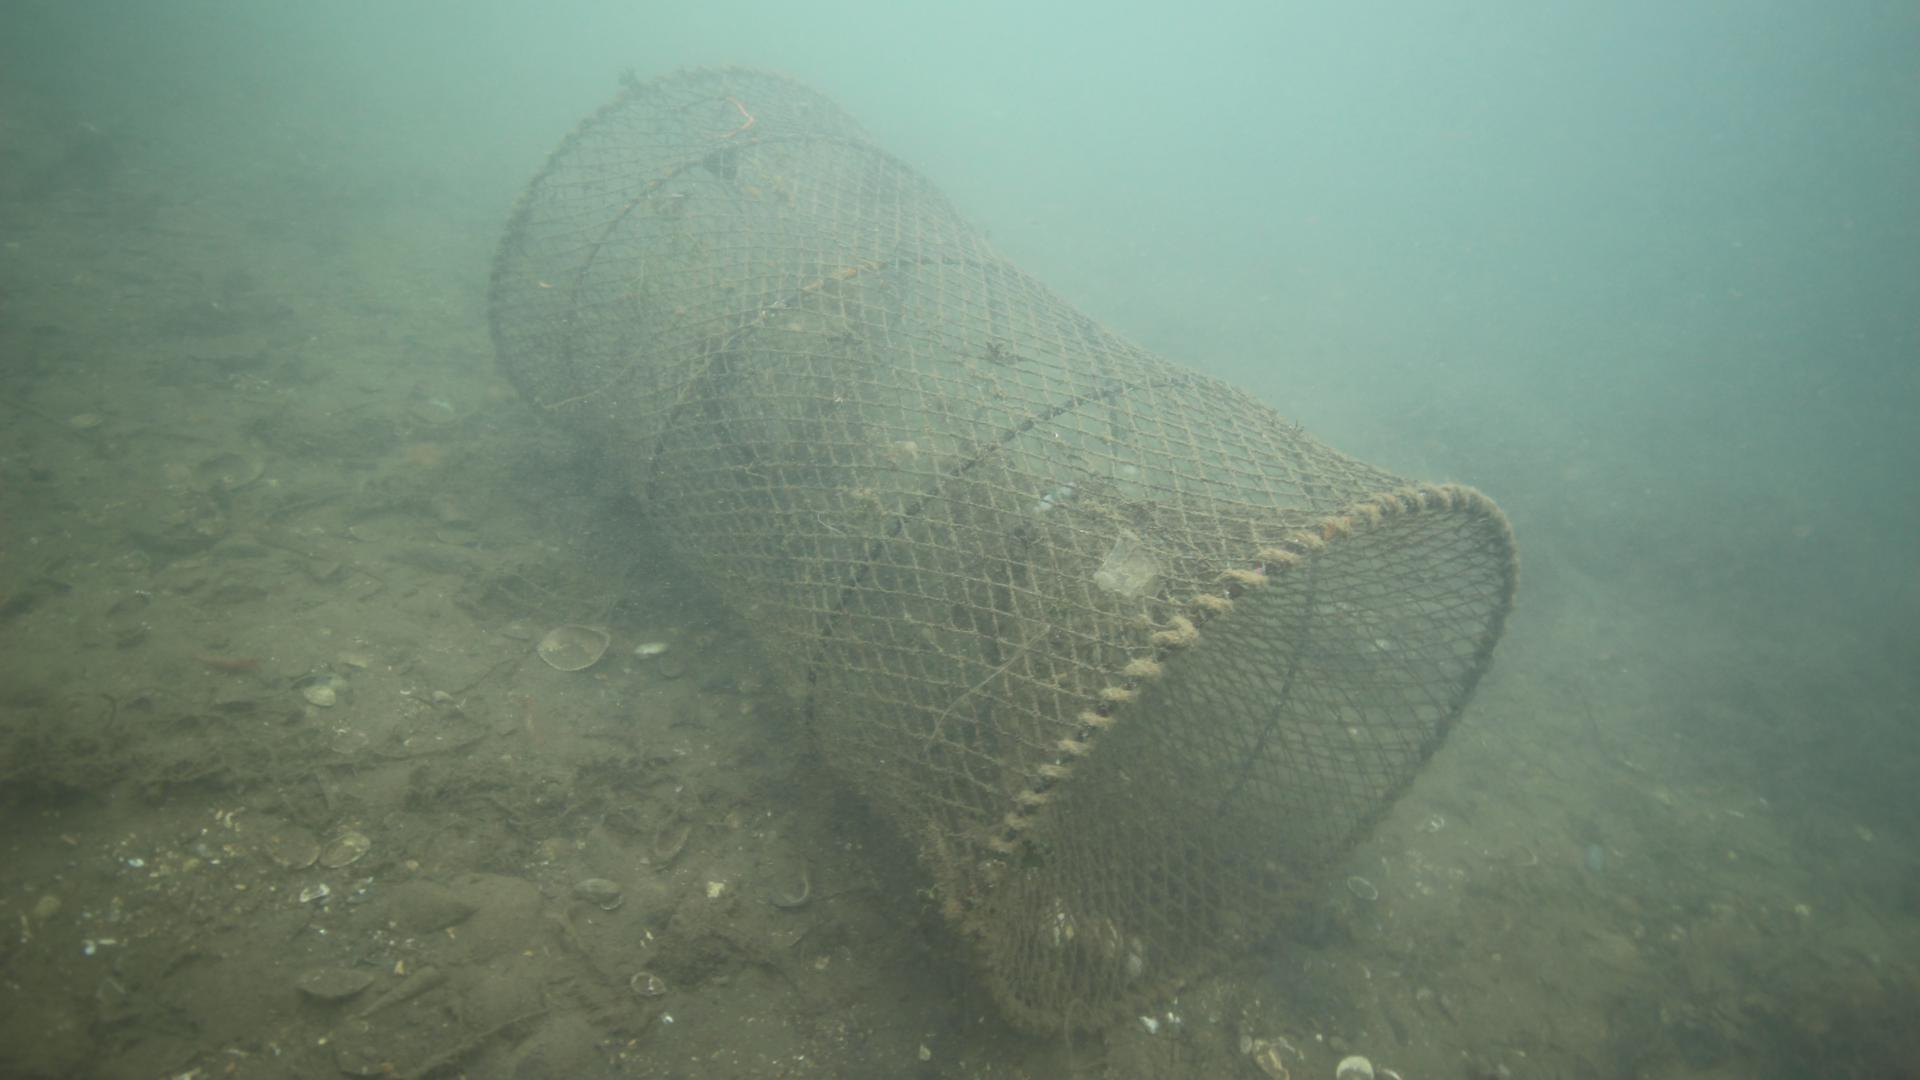spring fish trap: (483, 63, 1520, 1036)
